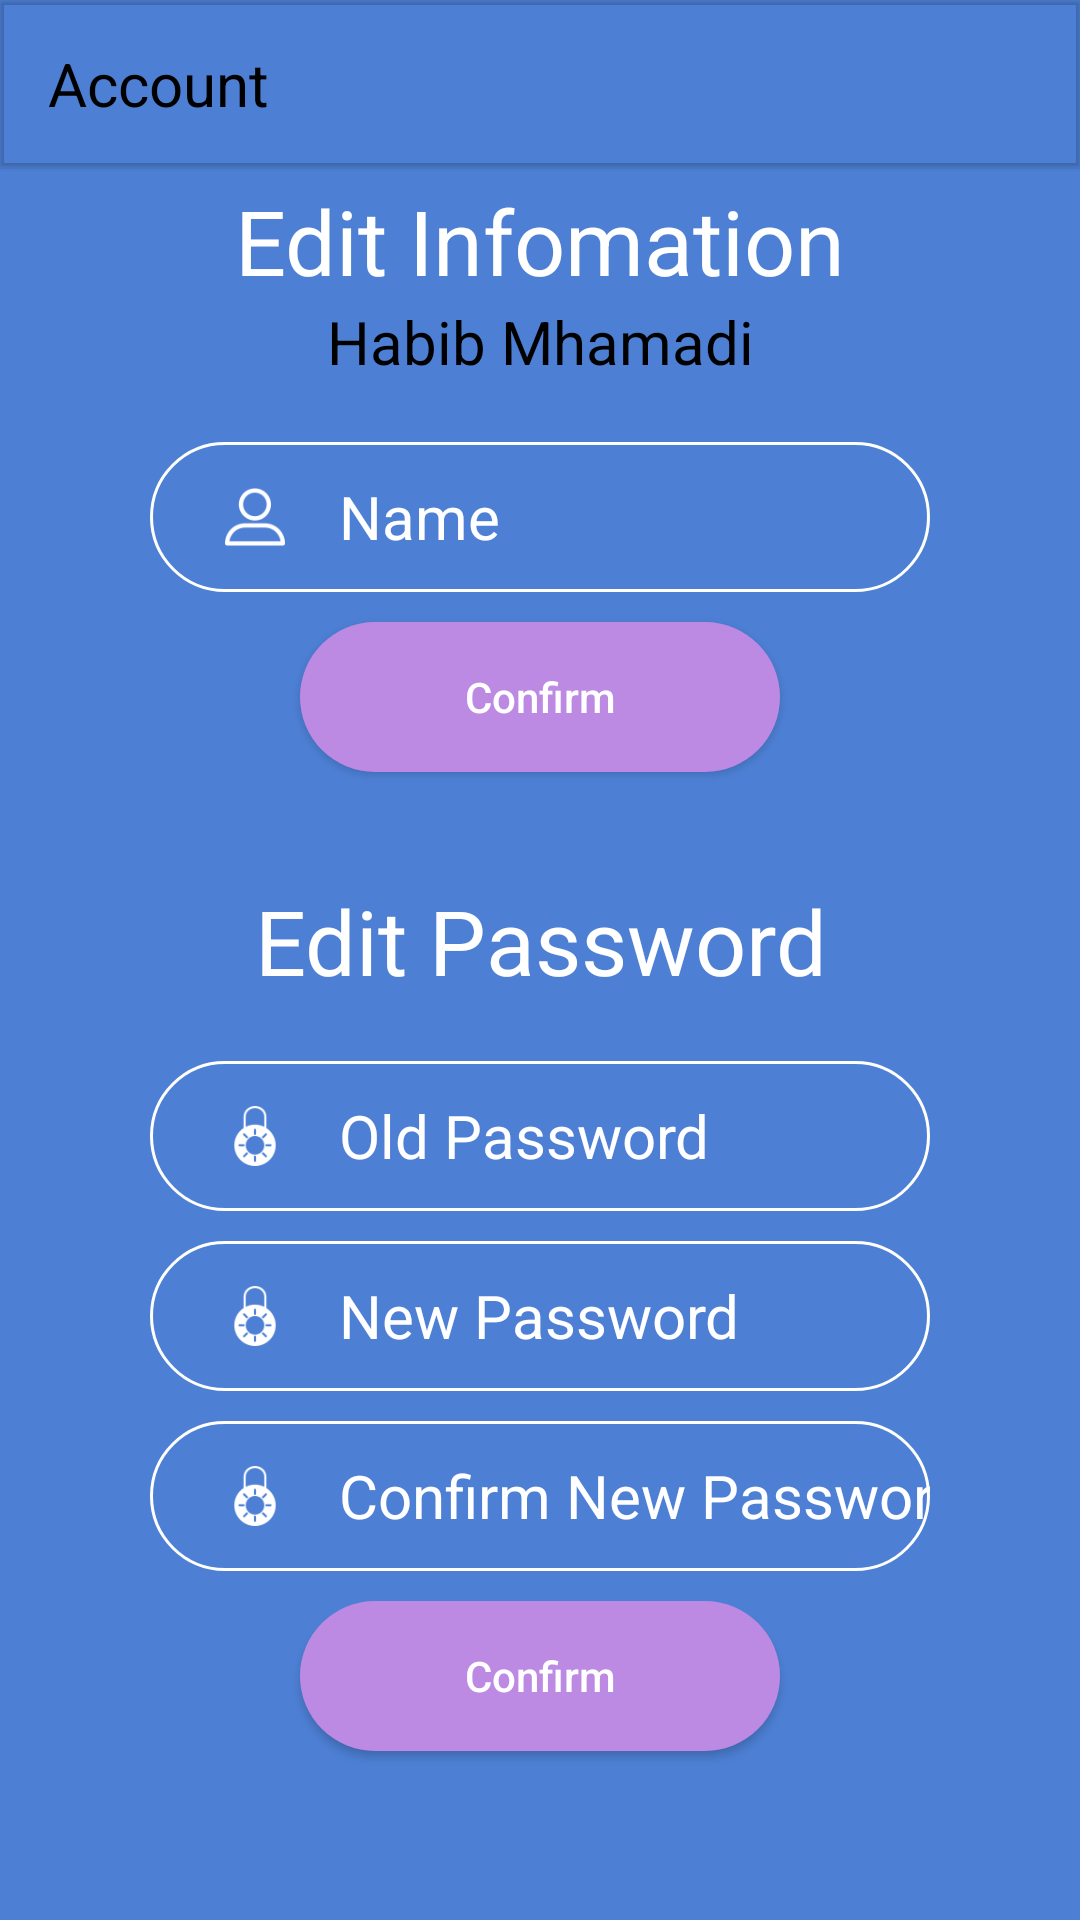

Where icons sit on this 1080 x 1920 app screen, as [left=x1, top=y1, right=x2, bottom=y2]:
locked: [left=234, top=1106, right=276, bottom=1166], [left=234, top=1286, right=276, bottom=1346], [left=234, top=1466, right=276, bottom=1526]
profile: [left=225, top=488, right=285, bottom=546]
